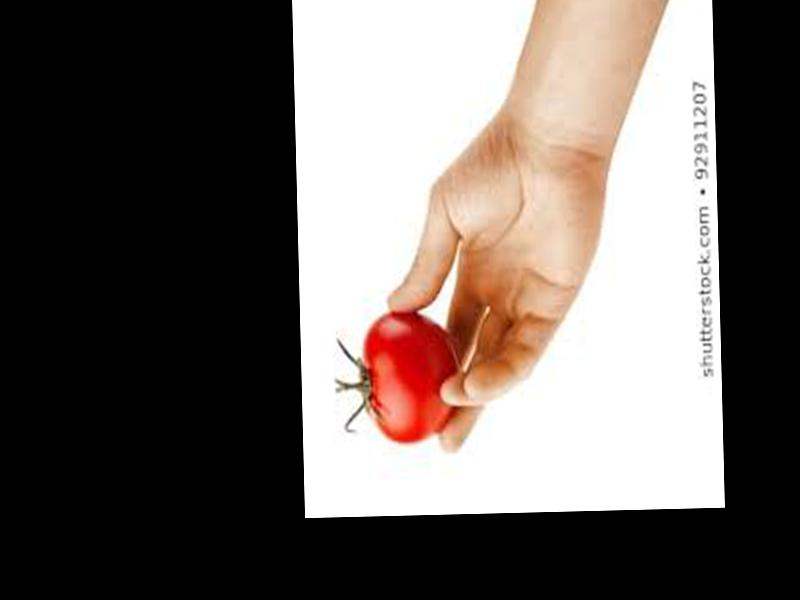Tomato: (361, 309, 462, 445)
